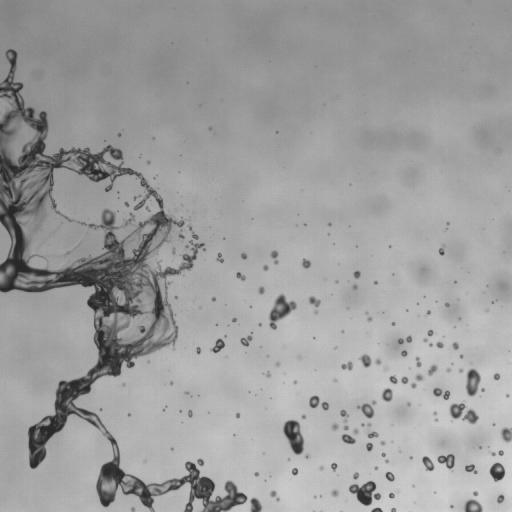droplet: (269, 294, 297, 329), (349, 481, 380, 505), (283, 420, 304, 454), (449, 402, 478, 424), (465, 368, 480, 396), (357, 401, 376, 418), (489, 462, 505, 481), (309, 395, 329, 410), (437, 454, 455, 469), (464, 499, 482, 511), (211, 338, 225, 353), (422, 456, 434, 471), (500, 427, 511, 442), (359, 354, 371, 367), (240, 334, 252, 346), (341, 434, 355, 444), (382, 388, 392, 401), (465, 464, 477, 474), (270, 250, 278, 264), (309, 296, 320, 306), (341, 361, 353, 370), (428, 364, 437, 375), (385, 472, 394, 481), (302, 258, 310, 268), (236, 272, 245, 280), (389, 375, 397, 383), (497, 494, 504, 503), (353, 270, 360, 278), (331, 422, 338, 430), (331, 489, 338, 497), (217, 253, 223, 262), (366, 442, 372, 451), (439, 245, 444, 255), (401, 376, 408, 383), (291, 468, 298, 475), (258, 286, 264, 294), (416, 357, 421, 366), (436, 342, 443, 348), (452, 342, 458, 349), (493, 373, 499, 380), (331, 463, 337, 470), (427, 330, 433, 336), (401, 350, 407, 356), (375, 358, 381, 364), (353, 428, 359, 434), (388, 492, 394, 498), (179, 232, 184, 239), (64, 251, 71, 256), (353, 472, 358, 479), (241, 253, 246, 259), (196, 347, 201, 353), (265, 372, 271, 377), (263, 265, 268, 270), (301, 414, 306, 419), (498, 450, 503, 455), (473, 491, 478, 496), (188, 410, 192, 416), (489, 451, 495, 455), (124, 202, 129, 206), (352, 285, 357, 289), (367, 317, 372, 321), (344, 425, 348, 430), (380, 441, 385, 445), (390, 508, 396, 511), (211, 297, 215, 301), (445, 302, 449, 306), (232, 318, 236, 322), (423, 338, 427, 342), (459, 354, 463, 358), (446, 368, 450, 372), (459, 368, 463, 372), (235, 413, 239, 417), (381, 452, 385, 456), (305, 454, 309, 458), (254, 472, 258, 476), (131, 507, 135, 511), (172, 248, 175, 253), (427, 310, 430, 314), (276, 362, 279, 366), (407, 402, 410, 406), (433, 411, 436, 415), (385, 459, 388, 463), (319, 466, 323, 469), (374, 466, 377, 470), (374, 281, 377, 284), (429, 343, 432, 346), (333, 379, 336, 382), (293, 380, 296, 383), (146, 161, 150, 163), (209, 127, 212, 129), (118, 133, 120, 136), (328, 223, 331, 225), (315, 310, 317, 313), (392, 322, 394, 325), (170, 382, 173, 384), (435, 418, 437, 421), (479, 446, 481, 449), (446, 222, 448, 224), (259, 323, 261, 325), (185, 391, 187, 393)
ligament: (0, 50, 261, 511), (361, 422, 378, 438), (433, 388, 450, 399), (411, 374, 424, 388), (398, 335, 411, 344), (340, 409, 348, 422), (270, 490, 279, 500), (371, 507, 382, 511)
